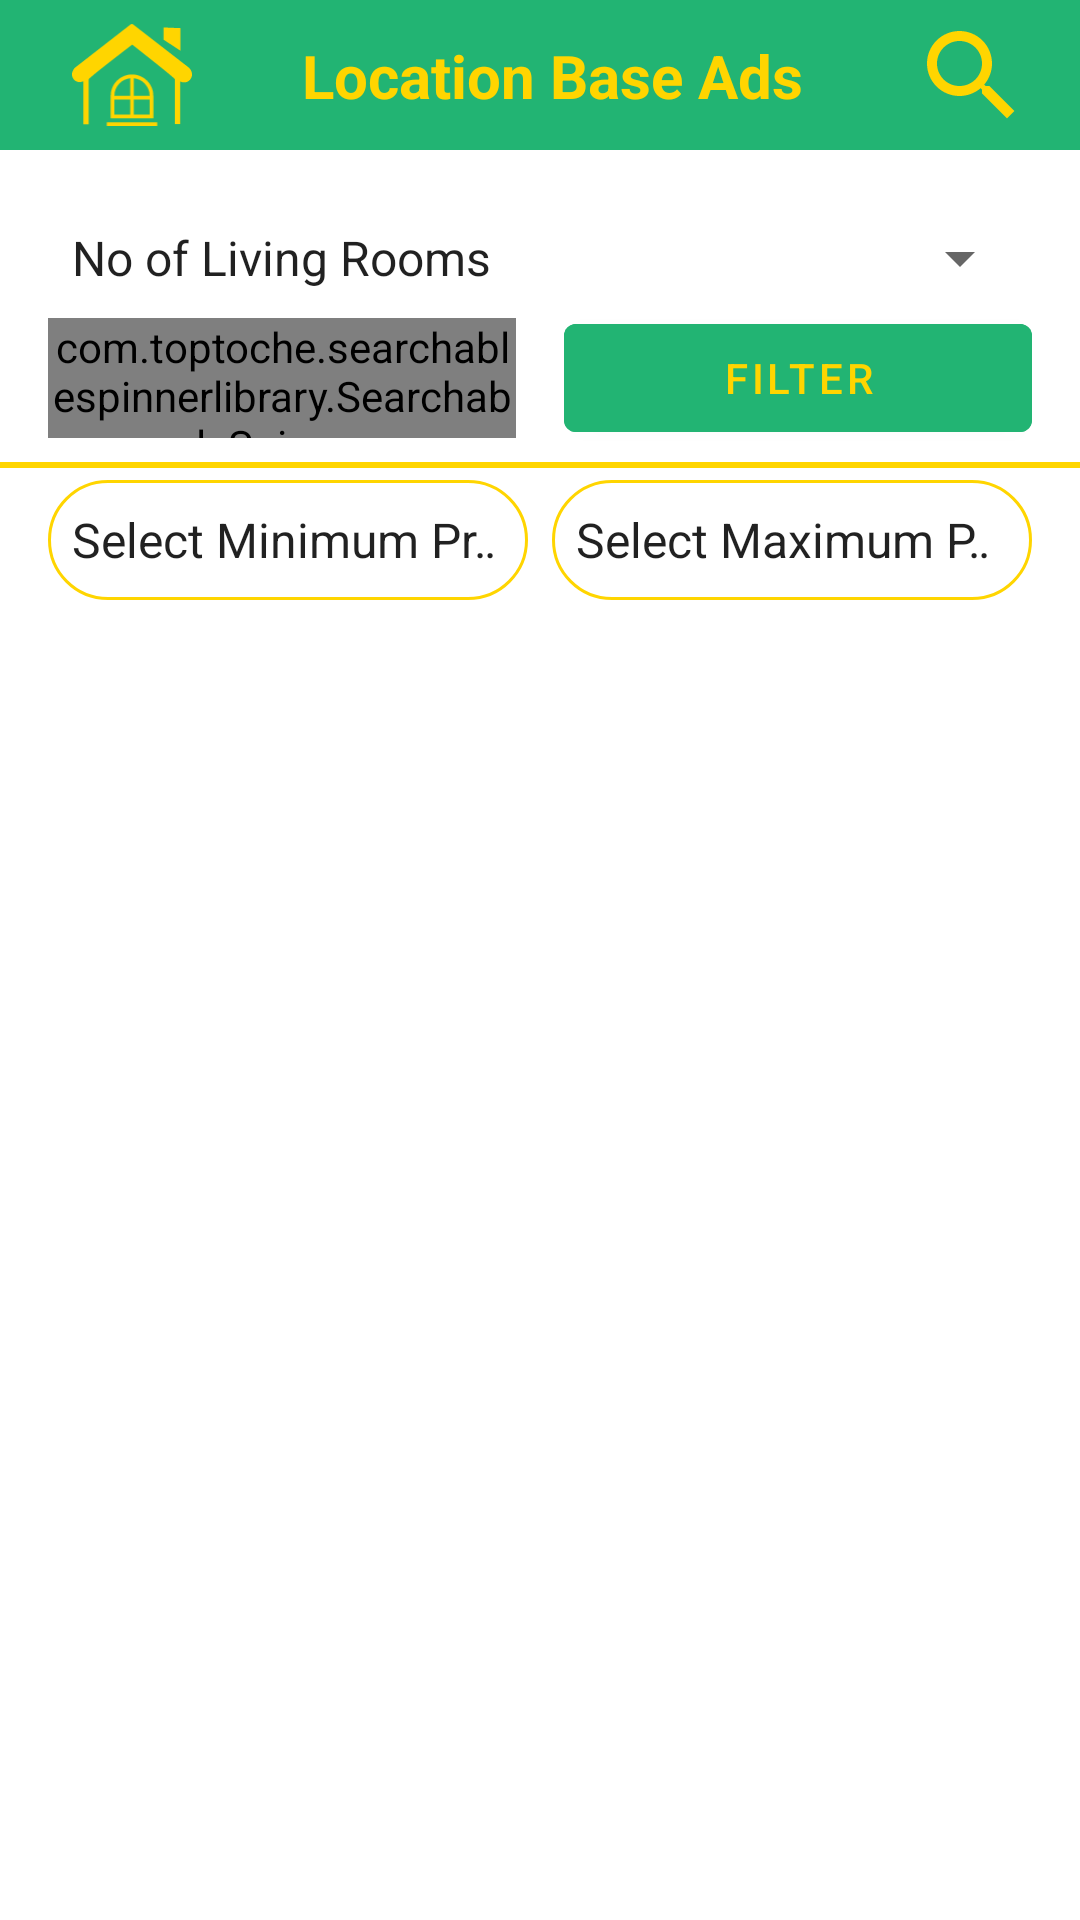

Icons on this 1080 × 1920 Android screen, each with the point to tap as point (x, y):
house window: point (132, 75)
search: point (970, 74)
